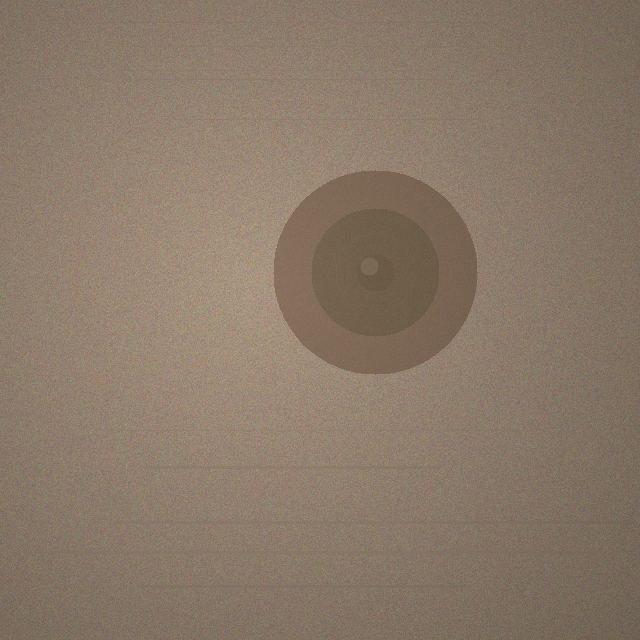good: (273, 170, 477, 374)
